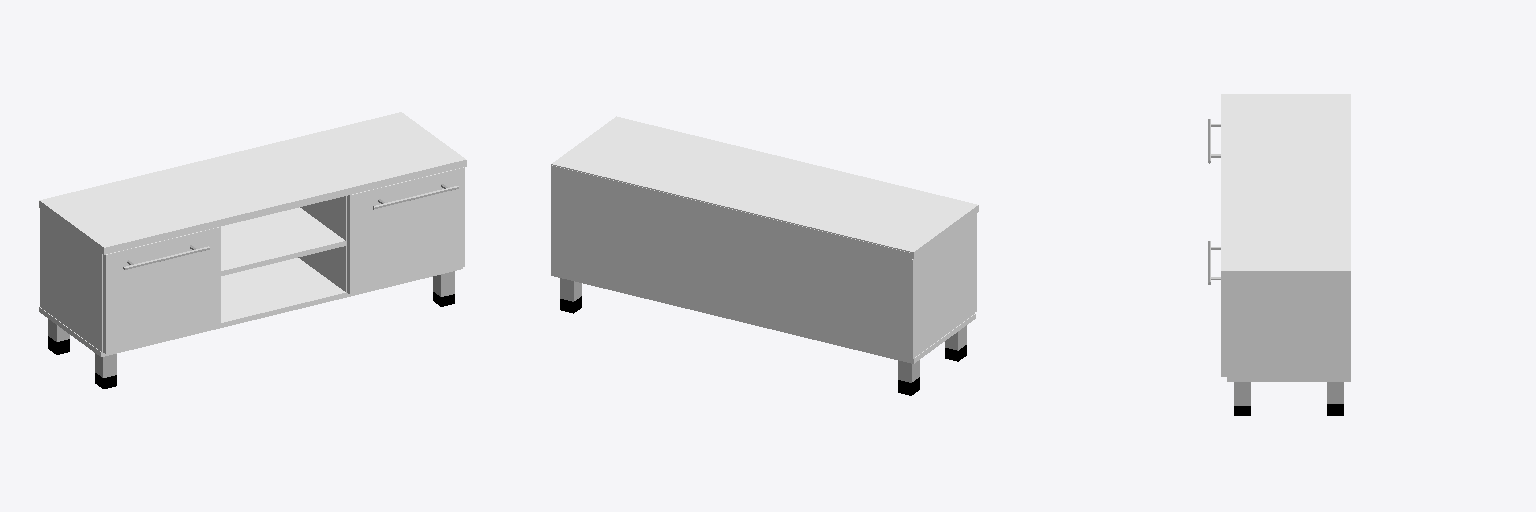
Rendered from tv-stand.obj.
3 renders of one model, left to right at view 1: azimuth 30°, elevation 25°; view 2: azimuth 150°, elevation 25°; view 3: azimuth 270°, elevation 25°, orthographic.
Visible parts, largest first — view 1: tv-stand; view 2: tv-stand; view 3: tv-stand.
Boxes of the visible parts, x1=… form: tv-stand: x1=39, y1=112, x2=466, y2=388; tv-stand: x1=551, y1=116, x2=978, y2=395; tv-stand: x1=1208, y1=94, x2=1350, y2=415.
Bounding box in the file's own units: 2.23 × 0.8692 × 0.7684.